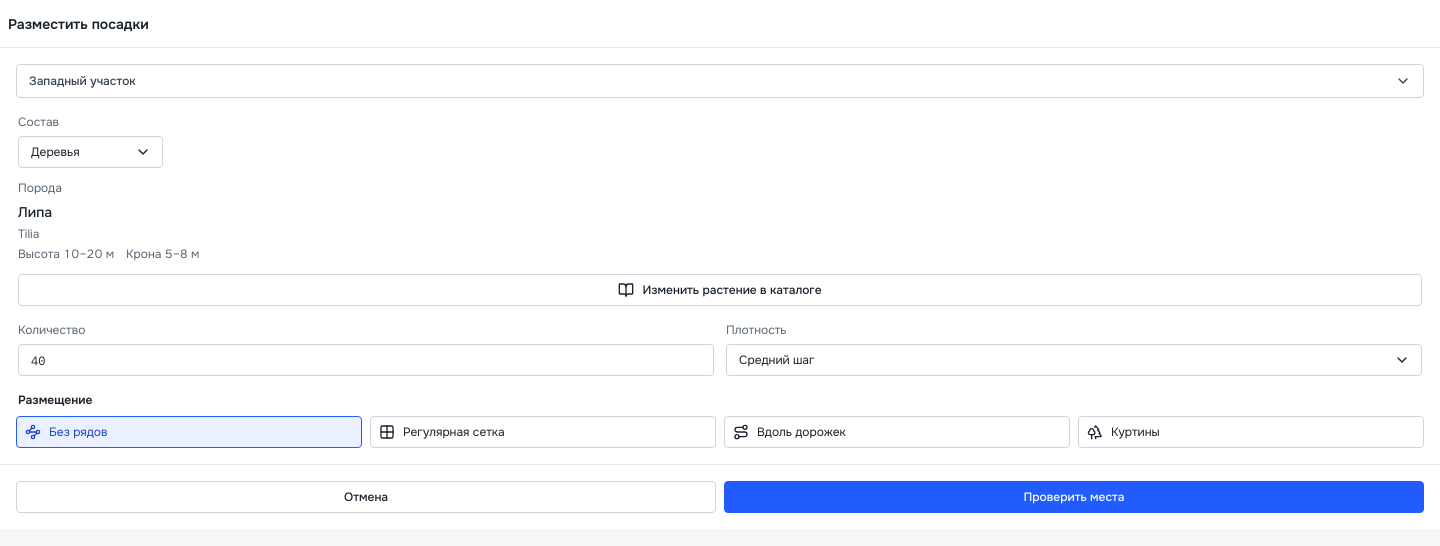
PatternToolPanel › does not offer a density control ignored by the shrub spacing calculation
Step 1. Select "Кустарники" in the dropdown named "Состав группы" → (91, 152), box [18,136,163,168]
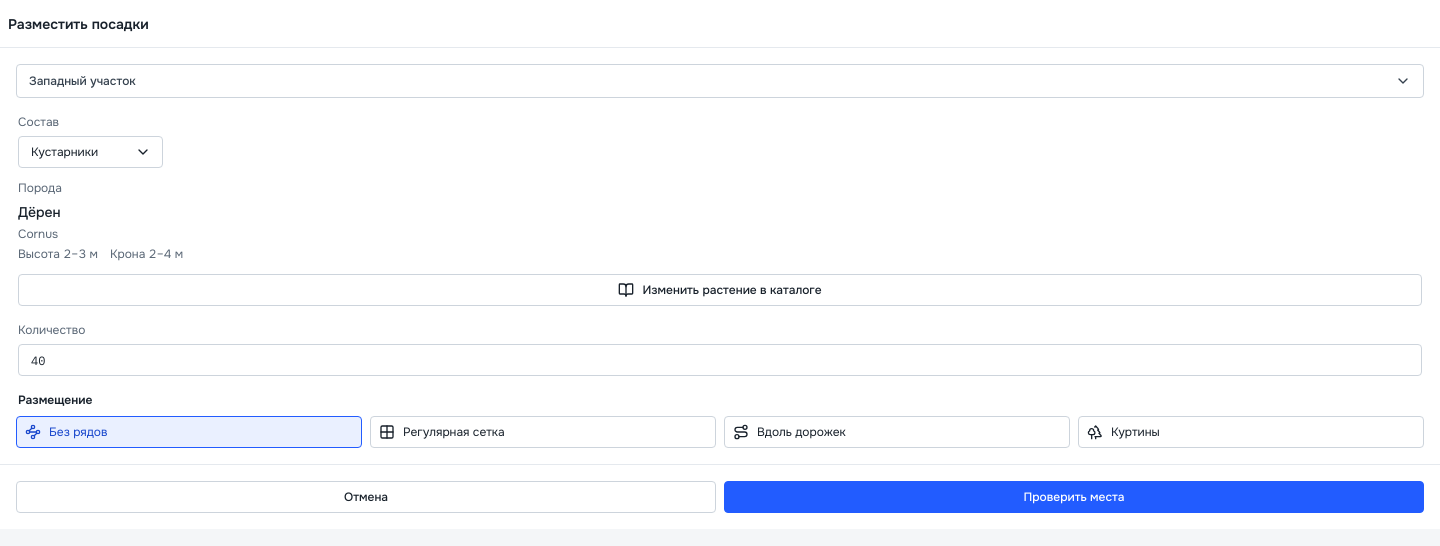
Step 2. Select "Деревья" in the dropdown named "Состав группы" → (91, 152), box [18,136,163,168]
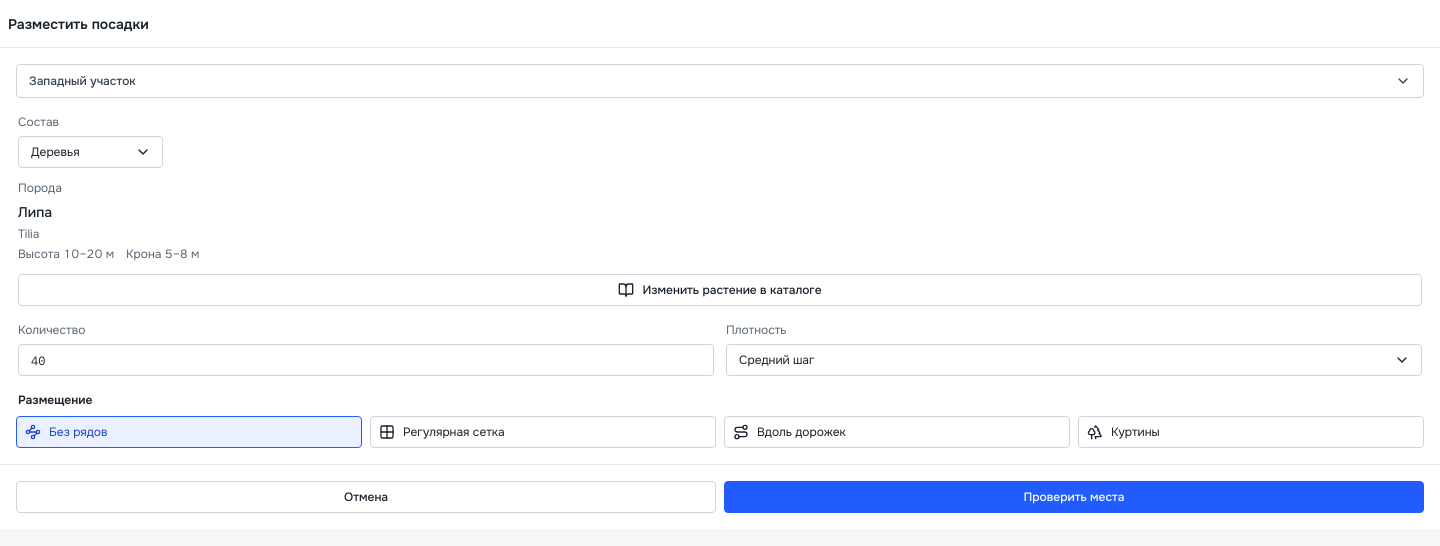
Expected: the dropdown named "Плотность группы" is shown, [726,344,1422,376]
